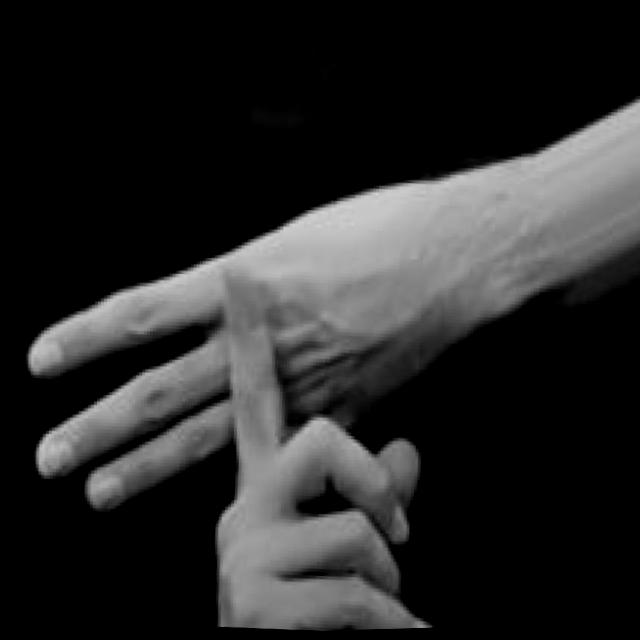E: (5, 172, 473, 640)
